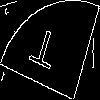T: (25, 25, 60, 80)
